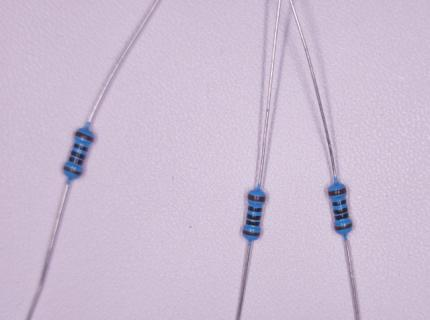Black band: (71, 150, 86, 160), (68, 156, 84, 165), (74, 143, 88, 152), (335, 212, 348, 220), (247, 213, 261, 220), (332, 199, 346, 206), (334, 207, 347, 214), (248, 206, 262, 212), (246, 220, 260, 226)
Brown band: (76, 131, 94, 142), (63, 166, 82, 176), (248, 194, 266, 202), (328, 188, 346, 196), (335, 222, 352, 230), (243, 230, 260, 236)
